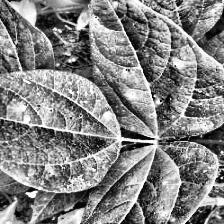Bean Rust: (77, 0, 224, 135), (0, 71, 120, 189), (56, 141, 218, 224), (0, 0, 55, 71)
